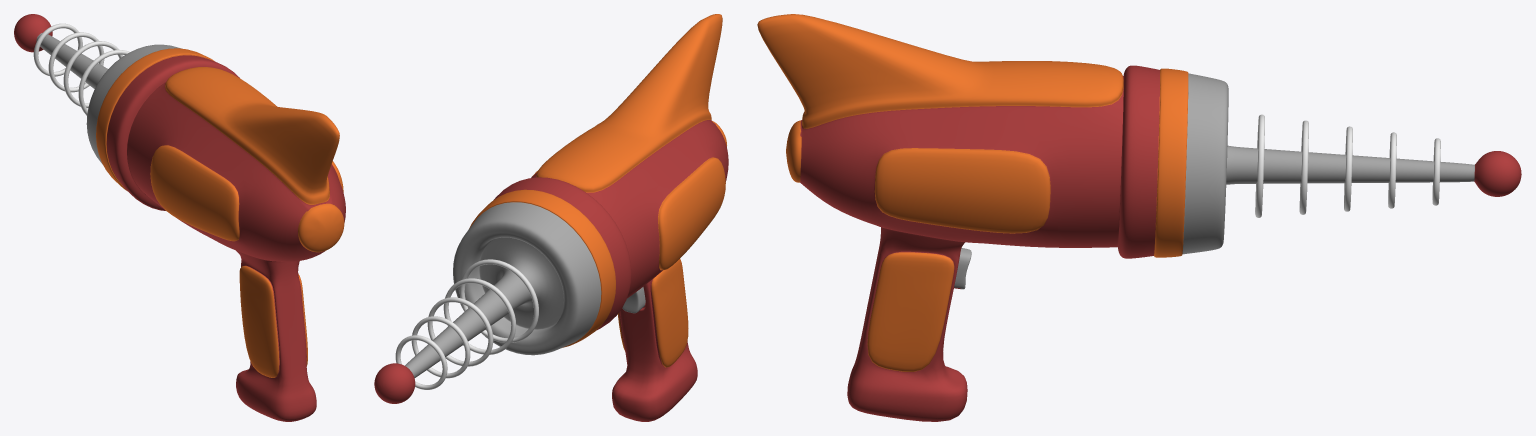
Rendered from LASER GUN.fbx.
3 renders of one model, left to right at view 1: azimuth 30°, elevation 25°; view 2: azimuth 150°, elevation 25°; view 3: azimuth 270°, elevation 25°, orthographic. The views are drawn at different scales.
Parts seen in each view (by area): view 1: Sphere; view 2: Sphere; view 3: Sphere.
Boxes of the visible parts, bbox=[...] form: Sphere: bbox=[14, 14, 345, 421]; Sphere: bbox=[374, 14, 728, 421]; Sphere: bbox=[757, 14, 1521, 421].
Size of the model in its own units: 257 by 589 by 1014.
